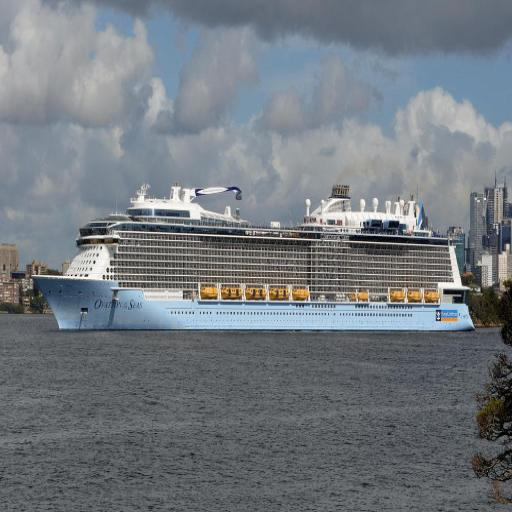cruises: (28, 179, 487, 336)
